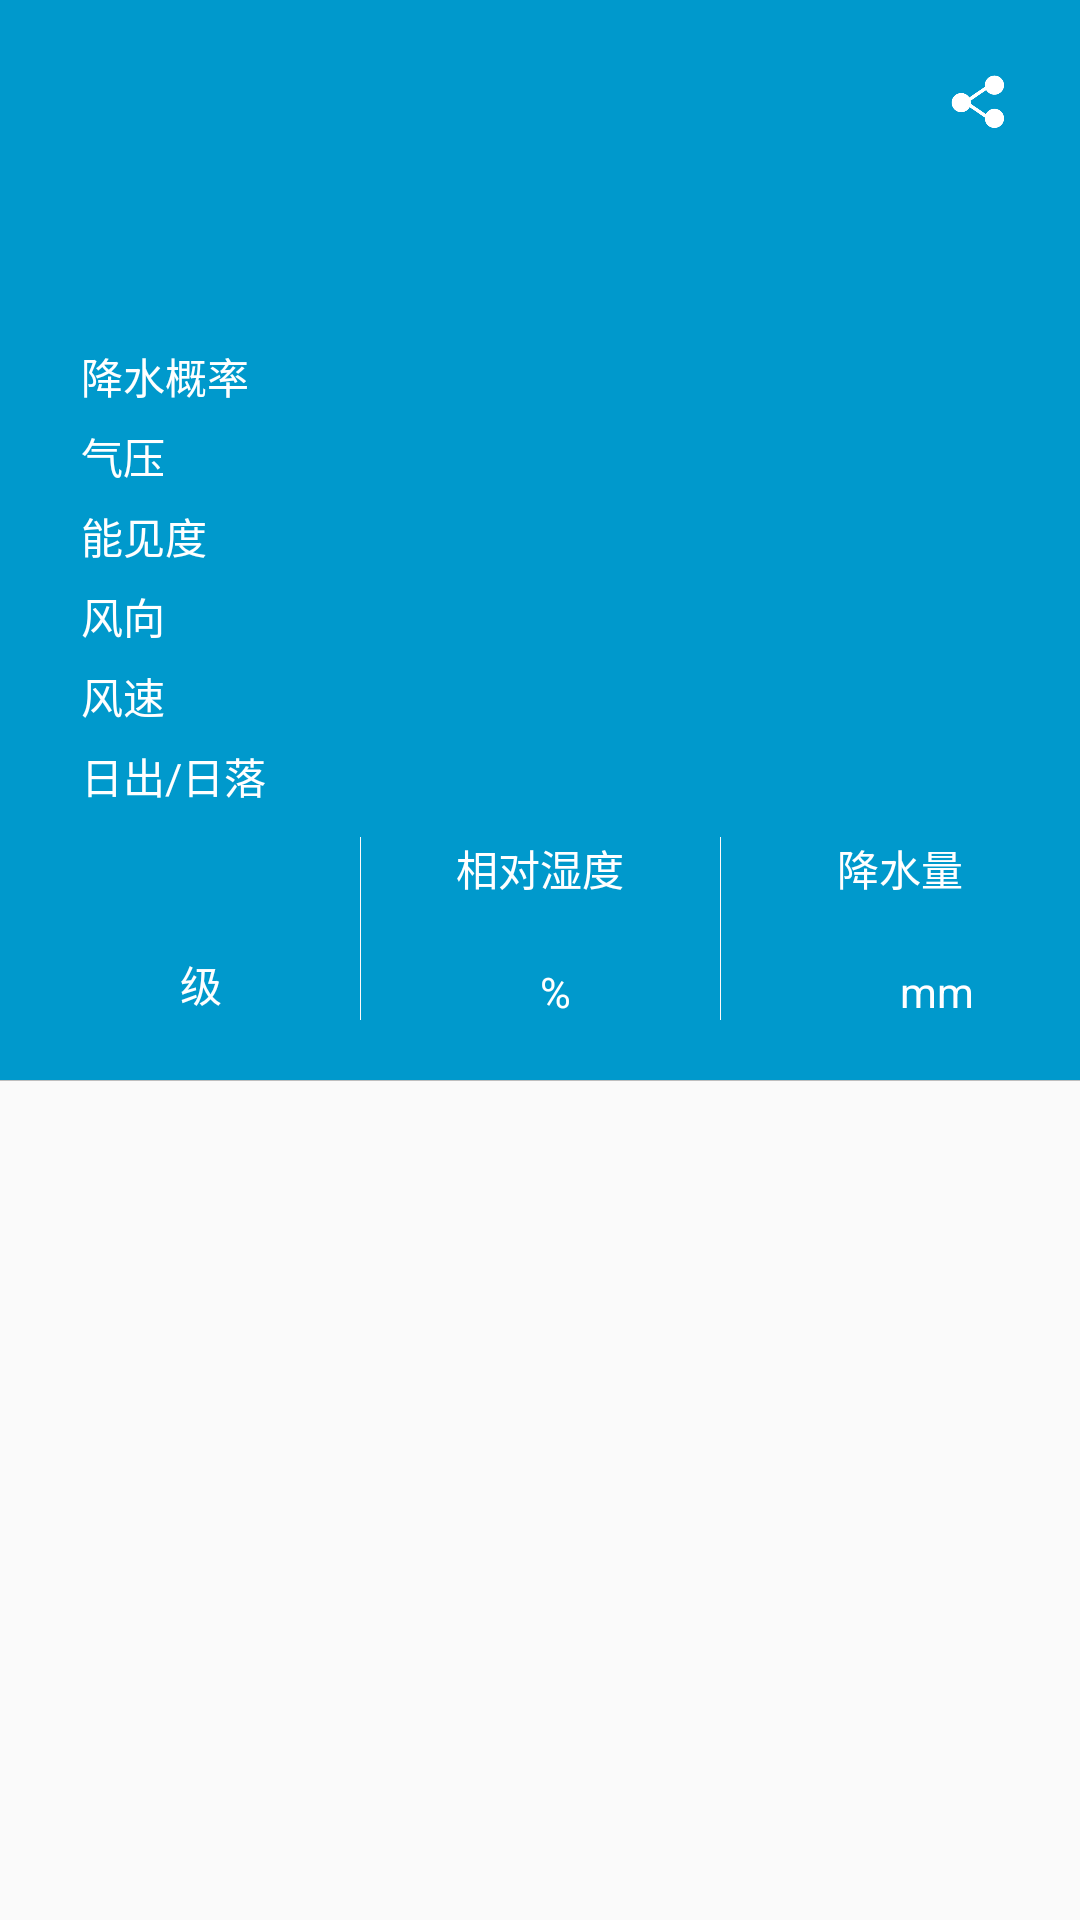

Icons on this 1080px×1920px Android screen, each with the point to tap as (x,y):
share: (977,101)
